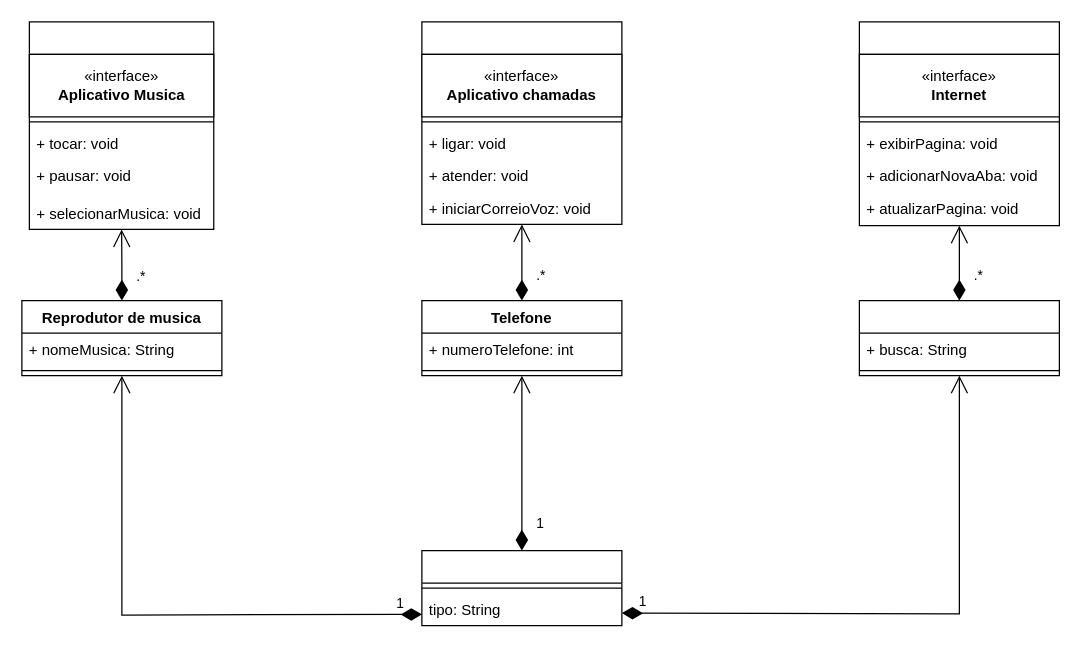
Some shapes in this 1081 by 659 pixel diagram are drawn without their labels. Each missing label, with the box of its shape:
Iphone: (421, 549, 622, 626)
Navegador: (858, 299, 1059, 376)
